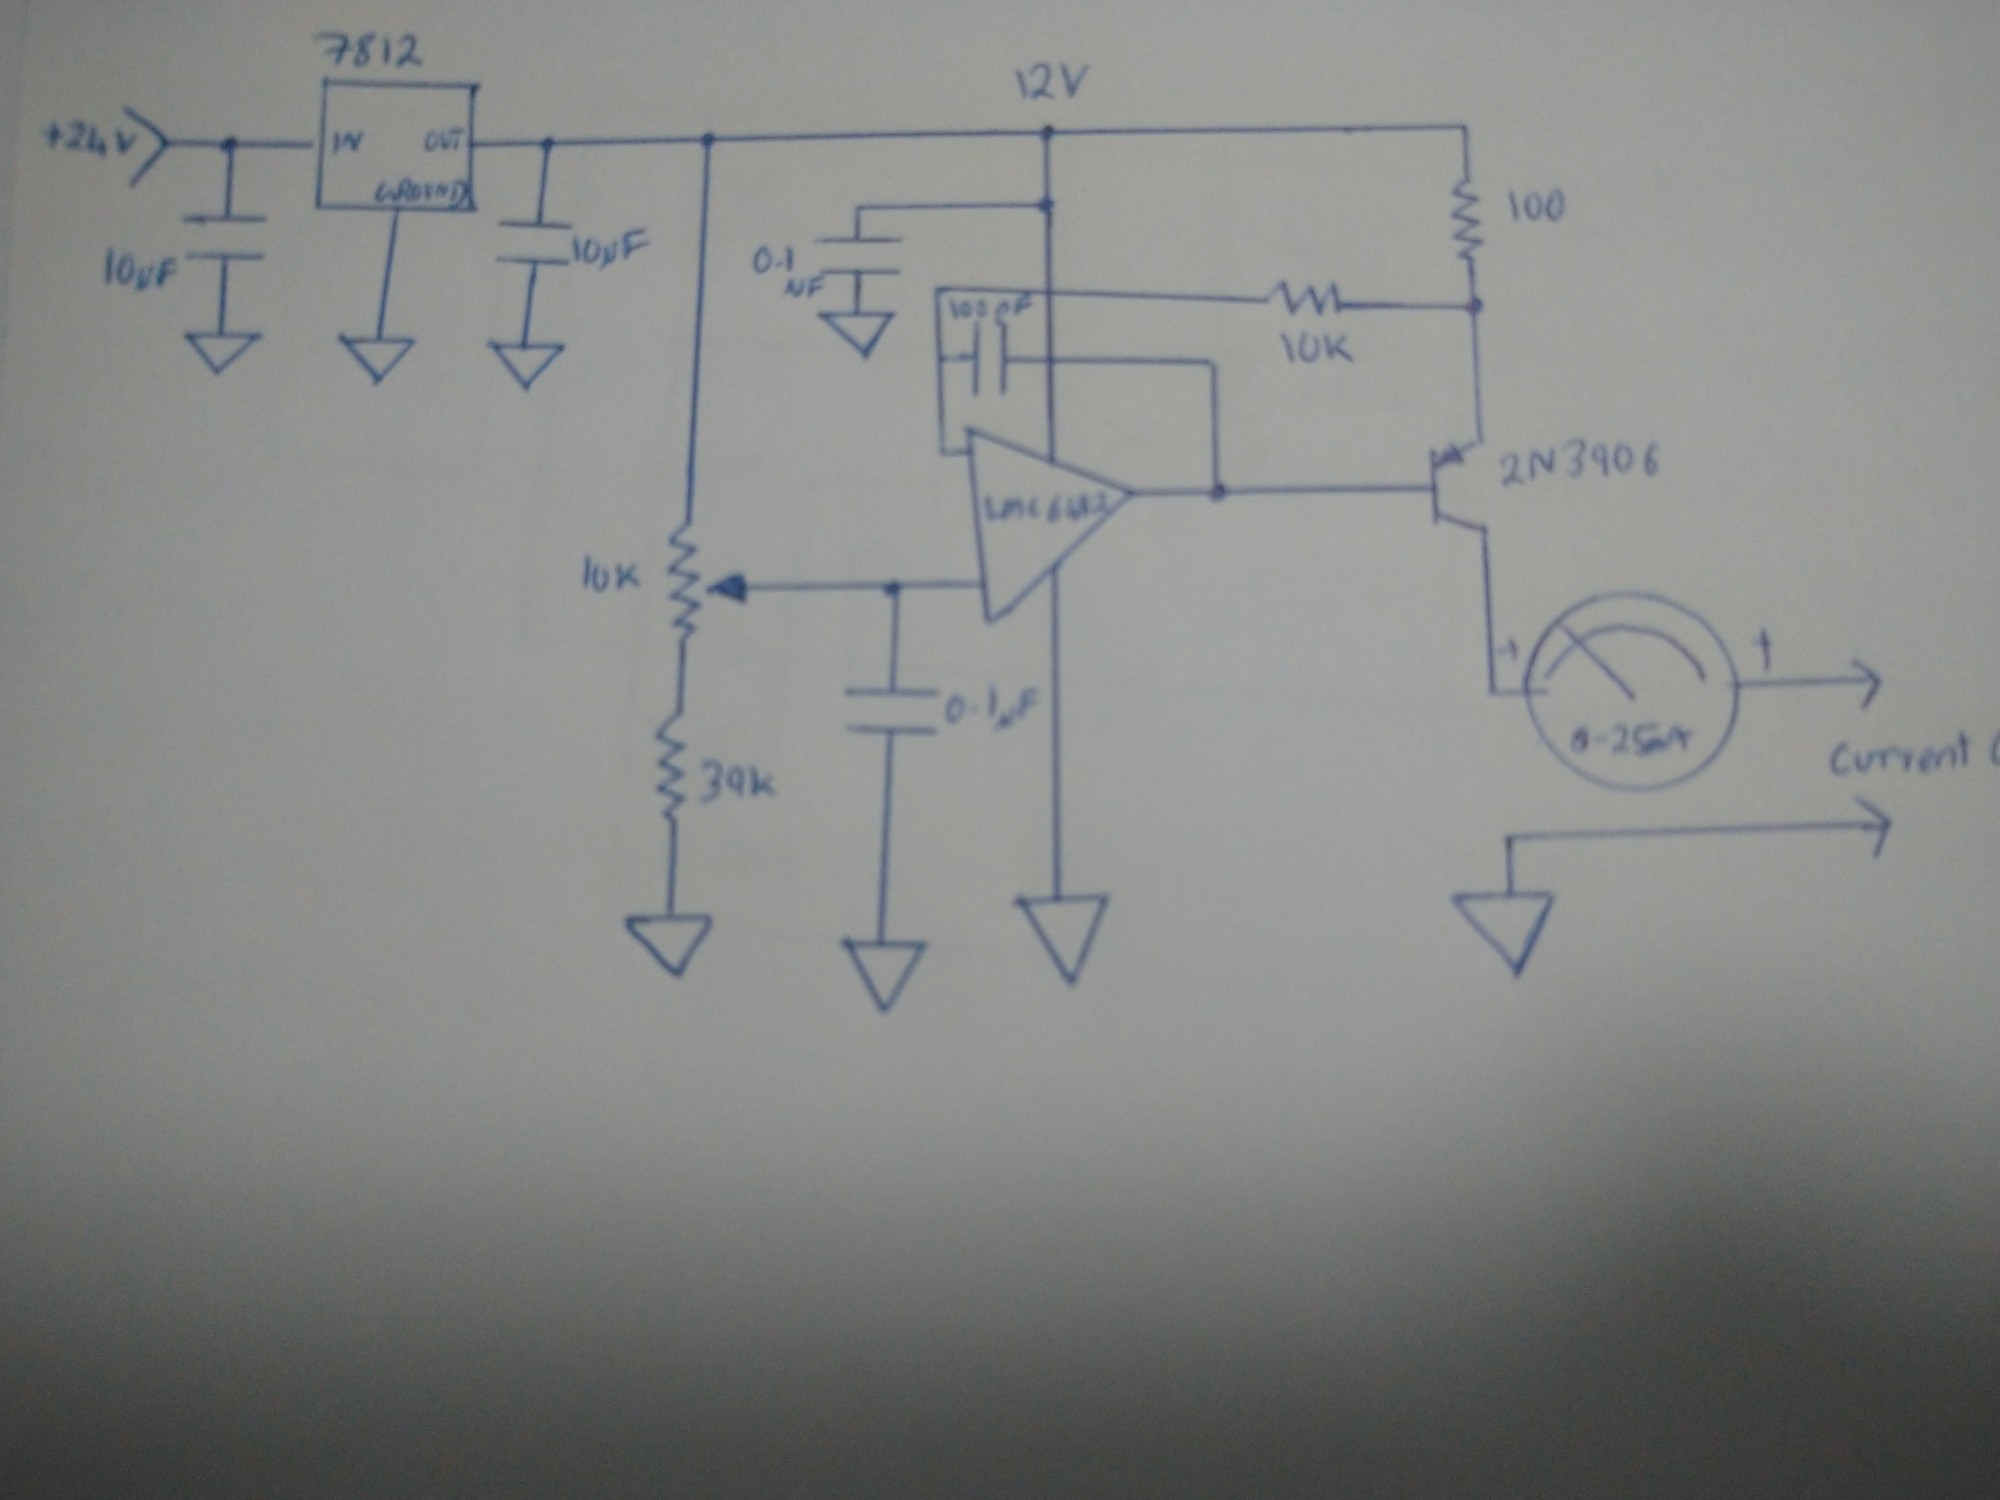capacitor.unpolarized: (839, 684, 942, 744), (176, 210, 274, 268), (490, 217, 573, 273), (813, 233, 909, 277), (965, 320, 1014, 399)
crossover: (1038, 350, 1061, 370), (1039, 282, 1060, 303)
gnd: (1444, 887, 1557, 983), (1009, 890, 1117, 989), (836, 933, 931, 1018), (617, 909, 715, 982), (334, 329, 419, 388), (483, 339, 569, 394), (816, 306, 898, 361), (183, 328, 261, 377)
junction: (1035, 120, 1063, 150), (1031, 191, 1061, 219), (879, 574, 907, 600), (217, 131, 246, 158), (1203, 477, 1228, 507), (1198, 351, 1225, 377), (1483, 678, 1506, 706), (1460, 295, 1485, 318), (535, 131, 559, 156), (696, 128, 720, 150), (929, 348, 950, 369), (1457, 117, 1476, 139), (1498, 829, 1520, 848), (850, 200, 871, 217), (935, 444, 951, 462), (931, 282, 945, 298)
operational_amplifier: (957, 422, 1137, 630)
probe.current: (1520, 586, 1742, 796)
resistor: (649, 707, 696, 824), (1449, 176, 1490, 266), (1263, 277, 1348, 318)
resistor.adjustable: (661, 518, 753, 644)
terminal: (121, 102, 175, 191), (1849, 794, 1899, 862), (1847, 655, 1887, 714)
text: (1491, 433, 1663, 492), (1825, 730, 2000, 780), (309, 25, 431, 74), (939, 681, 1043, 737), (39, 113, 139, 169), (1565, 718, 1694, 759), (746, 241, 825, 306), (96, 243, 183, 296), (980, 488, 1115, 522), (696, 755, 781, 807), (570, 225, 650, 276), (1011, 58, 1091, 106), (1274, 328, 1361, 369), (372, 173, 469, 210), (575, 551, 646, 596), (943, 291, 1035, 325), (1501, 186, 1570, 228), (422, 123, 466, 154), (329, 129, 365, 154)
transistor: (1425, 435, 1494, 540)
voltage.dc_regulator: (309, 76, 480, 217)
